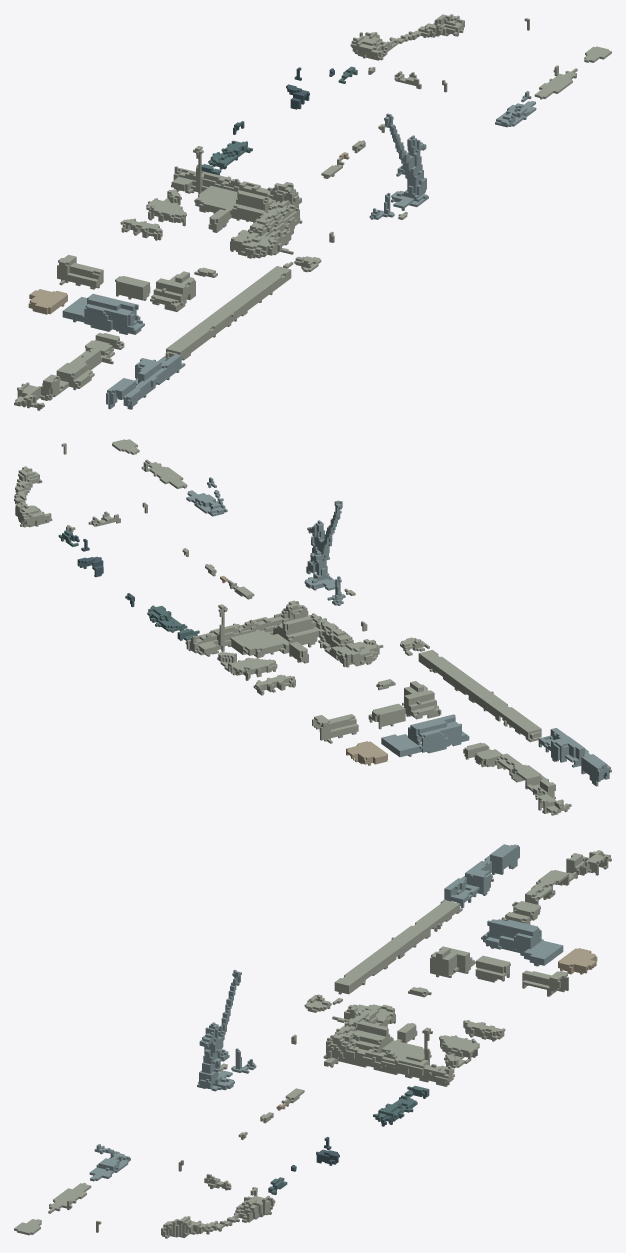
3 views of the same model, one above another, from view 1: azimuth 90°, elevation 25°; view 2: azimuth 150°, elevation 25°; view 3: azimuth 270°, elevation 25° (orthographic). The views are drawn at different scales.
Parts seen in each view (by area): view 1: measured-industrial; view 2: measured-industrial; view 3: measured-industrial.
Part boxes in pixels (box(x1,y1,x2,y2)): measured-industrial: box(14, 14, 611, 410); measured-industrial: box(14, 439, 611, 815); measured-industrial: box(14, 844, 611, 1238).
Bounding box in the file's own units: 376 × 47.07 × 250.
